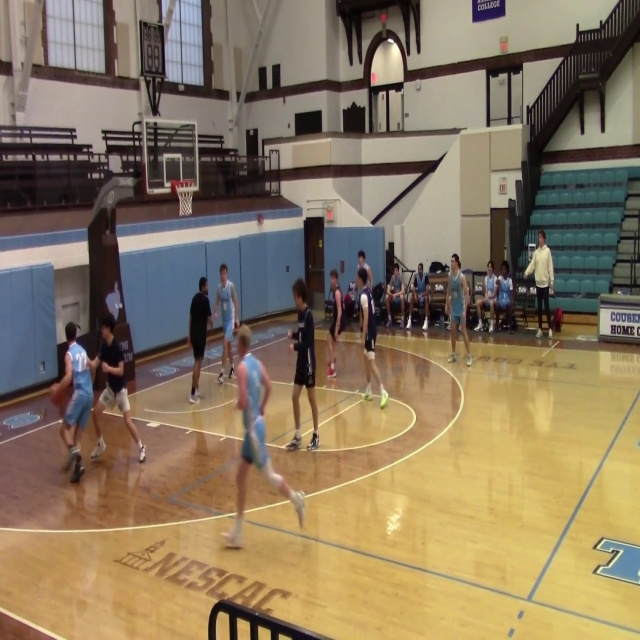Basketball: (49, 382, 71, 405)
